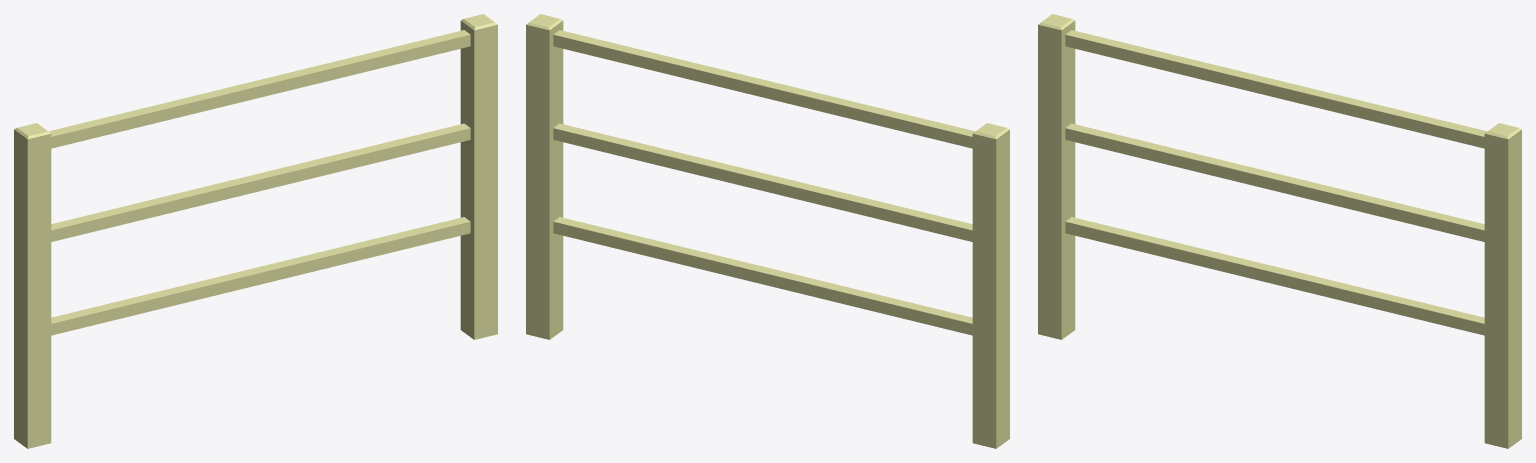
File: fence.gltf
3 renders of one model, left to right at view 1: azimuth 30°, elevation 25°; view 2: azimuth 150°, elevation 25°; view 3: azimuth 330°, elevation 25°, orthographic.
Visible parts, largest first — view 1: Fence; view 2: Fence; view 3: Fence.
Boxes of the visible parts, left/top/right/bottom form: Fence: left=14, top=14, right=497, bottom=448; Fence: left=526, top=14, right=1009, bottom=448; Fence: left=1038, top=14, right=1521, bottom=448.
Bounding box in the file's own units: 2.11 × 1.33 × 0.1057.
